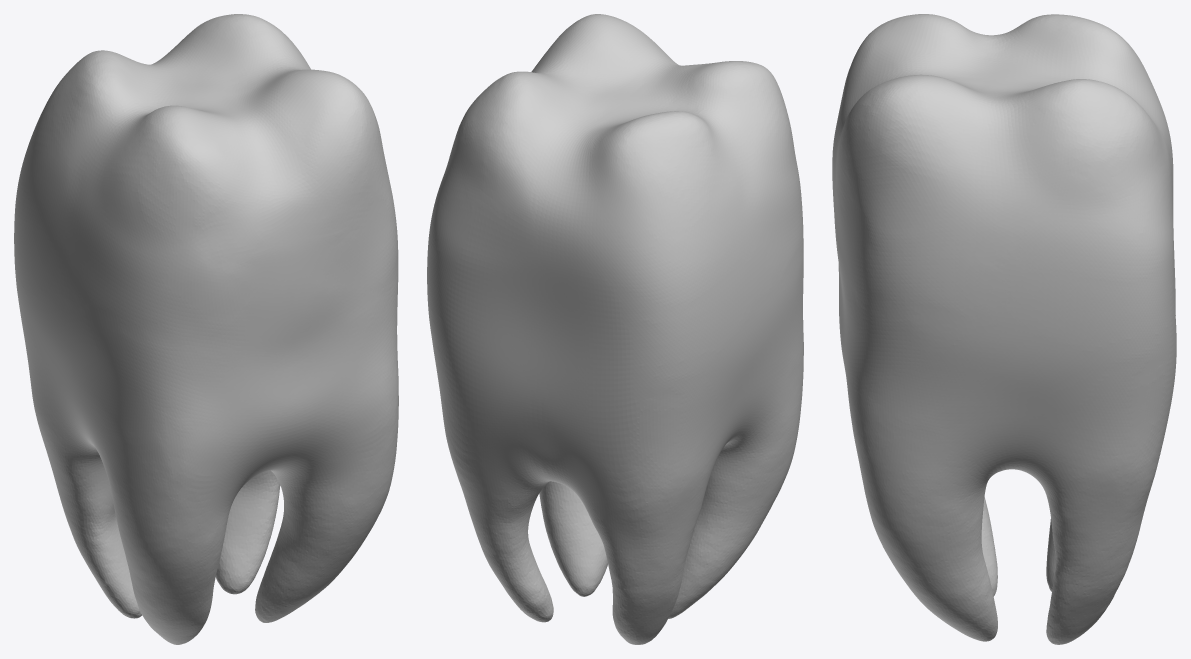
The model's file is molar_tooth_original.glb.
3 renders of one model, left to right at view 1: azimuth 30°, elevation 25°; view 2: azimuth 150°, elevation 25°; view 3: azimuth 270°, elevation 25°, orthographic. The views are drawn at different scales.
Parts seen in each view (by area): view 1: Quad Sphere_1; view 2: Quad Sphere_1; view 3: Quad Sphere_1.
Part boxes in pixels (x1,y1,x2,y2): Quad Sphere_1: (14,14,398,644); Quad Sphere_1: (427,14,803,644); Quad Sphere_1: (832,14,1176,644).
Bounding box in the file's own units: 1.45 × 2.62 × 1.43.
Materials: 1 (1 with a texture image).
